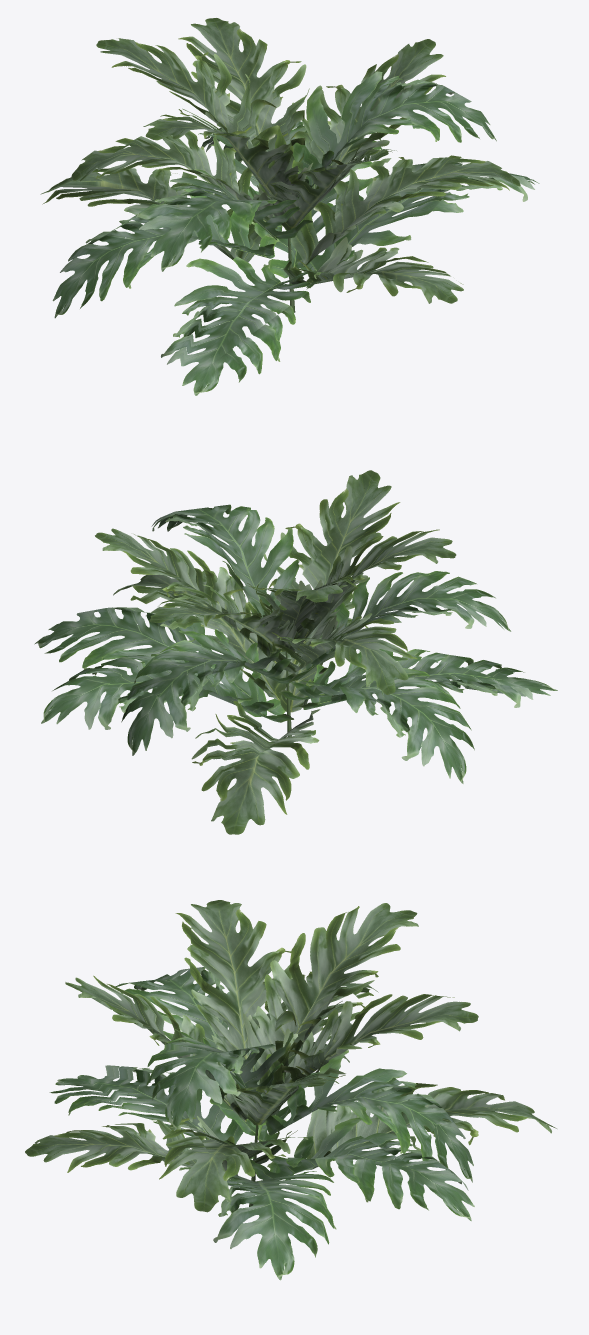
Rendered from Phlebodium_Aureum_Autumn_Adult.glb.
The picture shows the model from 3 angles, top to bottom: view 1: azimuth 30°, elevation 25°; view 2: azimuth 150°, elevation 25°; view 3: azimuth 270°, elevation 25°; orthographic projection. The views are drawn at different scales.
Visible parts, largest first — view 1: Phlebodium_Aureum_Autumn_Adult__LOD3; view 2: Phlebodium_Aureum_Autumn_Adult__LOD3; view 3: Phlebodium_Aureum_Autumn_Adult__LOD3.
Part boxes in pixels (x1,y1,x2,y2): Phlebodium_Aureum_Autumn_Adult__LOD3: (40, 18, 539, 395); Phlebodium_Aureum_Autumn_Adult__LOD3: (34, 470, 557, 834); Phlebodium_Aureum_Autumn_Adult__LOD3: (25, 900, 556, 1280).
Bounding box in the file's own units: 2.29 × 1.07 × 2.22.
2 materials, 2 textured.
